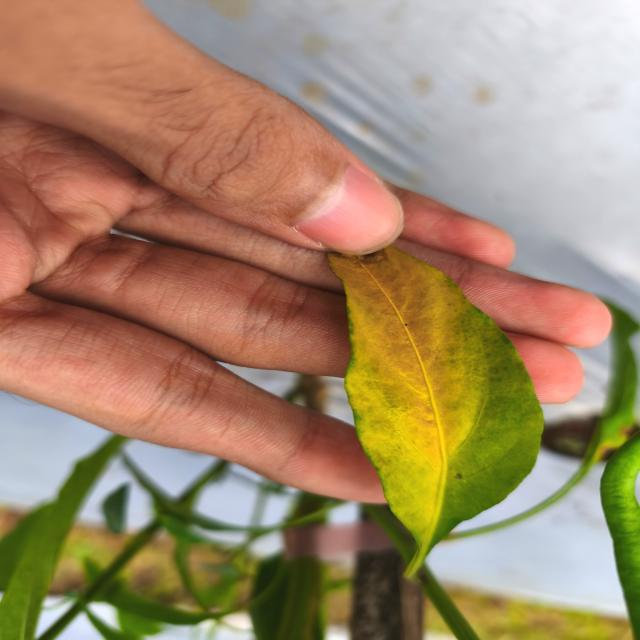Virus Kuning: (325, 244, 545, 548)
